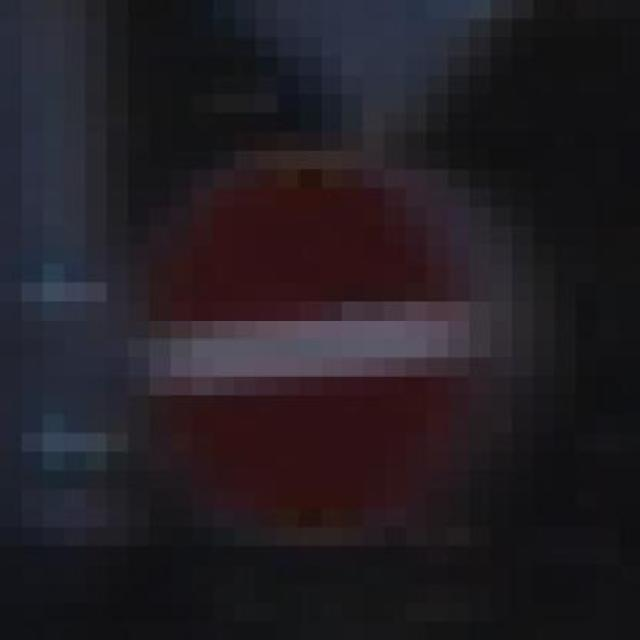B2: (123, 161, 493, 544)
